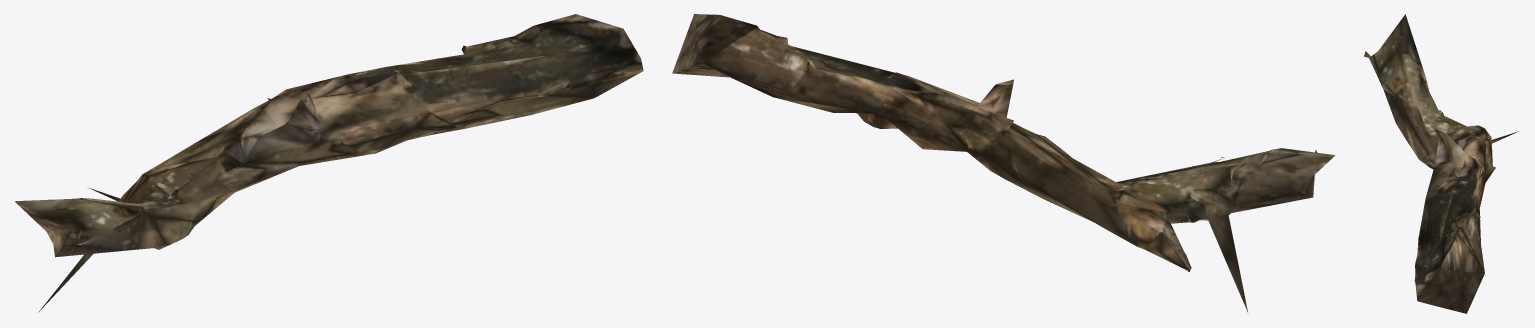
File: dead_tree_trunk_02.glb
3 renders of one model, left to right at view 1: azimuth 30°, elevation 25°; view 2: azimuth 150°, elevation 25°; view 3: azimuth 270°, elevation 25°, orthographic. The views are drawn at different scales.
Visible parts, largest first — view 1: dead_tree_trunk_02; view 2: dead_tree_trunk_02; view 3: dead_tree_trunk_02.
Part boxes in pixels (<box>): dead_tree_trunk_02: <box>15,14,643,312</box>; dead_tree_trunk_02: <box>672,14,1335,312</box>; dead_tree_trunk_02: <box>1364,14,1518,313</box>.
Size of the model in its own units: 3.93 by 1 by 0.9939.
1 material, 1 textured.
